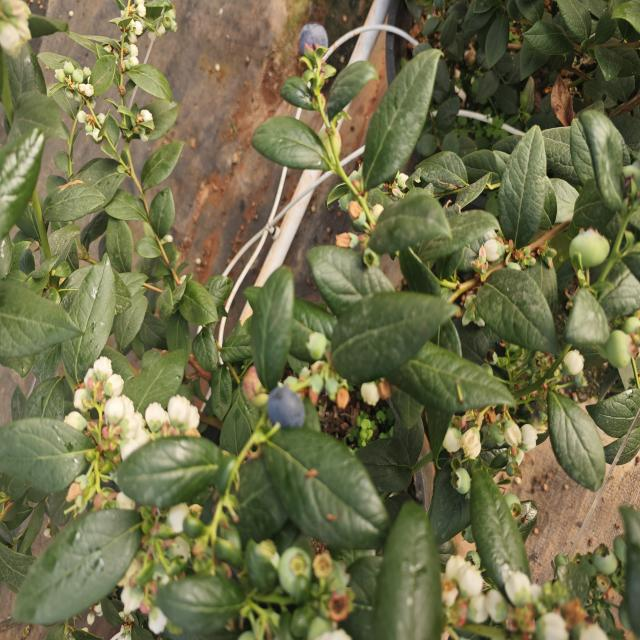ripe: (263, 382, 308, 433), (295, 20, 331, 66)
